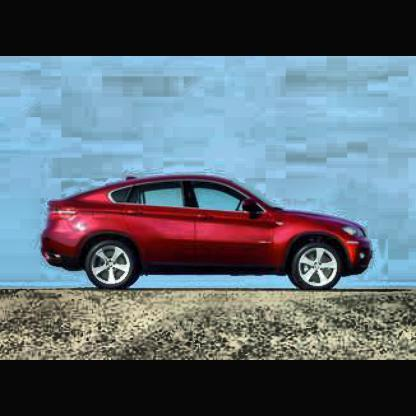BMW X6 SUV 2012: (40, 170, 378, 295)
